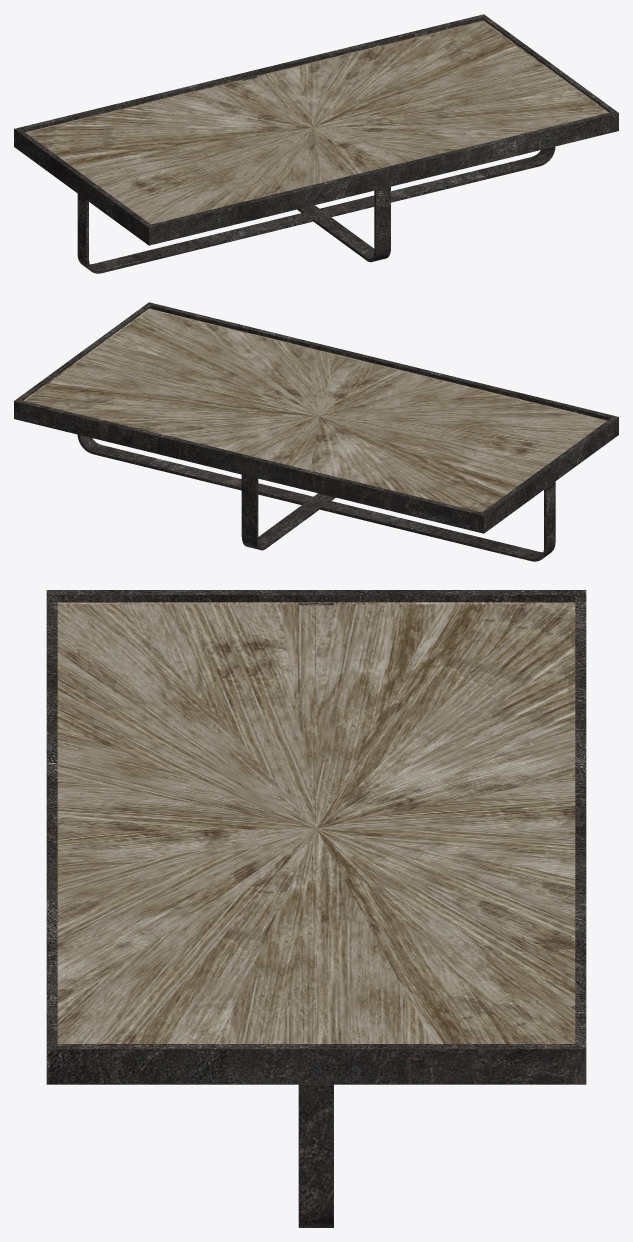
Rendered from stol-transformed.glb.
3 views of the same model, one above another, from view 1: azimuth 30°, elevation 25°; view 2: azimuth 150°, elevation 25°; view 3: azimuth 270°, elevation 25° (orthographic). The views are drawn at different scales.
Visible parts, largest first — view 1: AM_138_006_obj_03, AM_138_006_obj_02; view 2: AM_138_006_obj_03, AM_138_006_obj_02; view 3: AM_138_006_obj_03, AM_138_006_obj_02.
Part boxes in pixels (<box>): AM_138_006_obj_03: <box>25,19,609,224</box>; AM_138_006_obj_02: <box>14,14,618,273</box>; AM_138_006_obj_03: <box>23,307,607,512</box>; AM_138_006_obj_02: <box>14,302,618,561</box>; AM_138_006_obj_03: <box>57,602,575,1043</box>; AM_138_006_obj_02: <box>46,590,586,1227</box>.
Size of the model in its own units: 81.23 by 15.8 by 40.4.
Materials: 2 (2 with a texture image).
